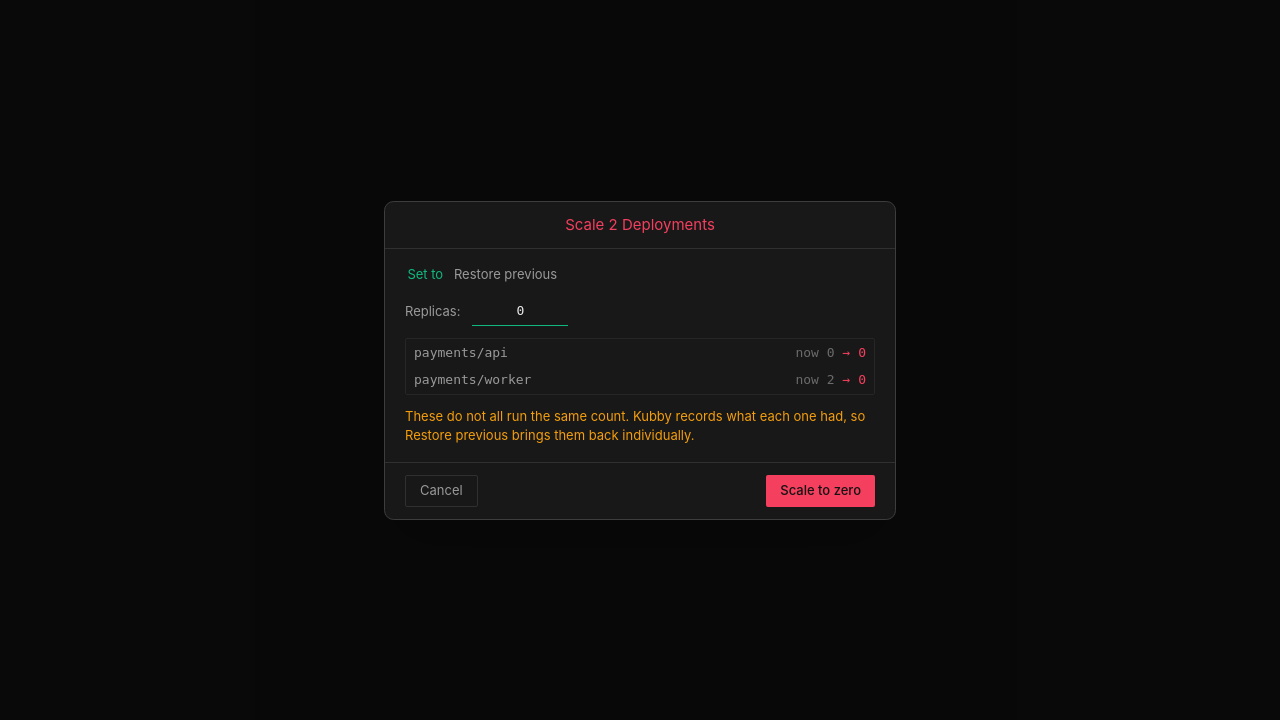
Test: BulkScaleDialog, restoring › marks a workload Kubby never scaled instead of inventing a count for it
This screenshot has width=1280, height=720.
Click the button "Restore previous": (506, 275) [452,265,560,285]
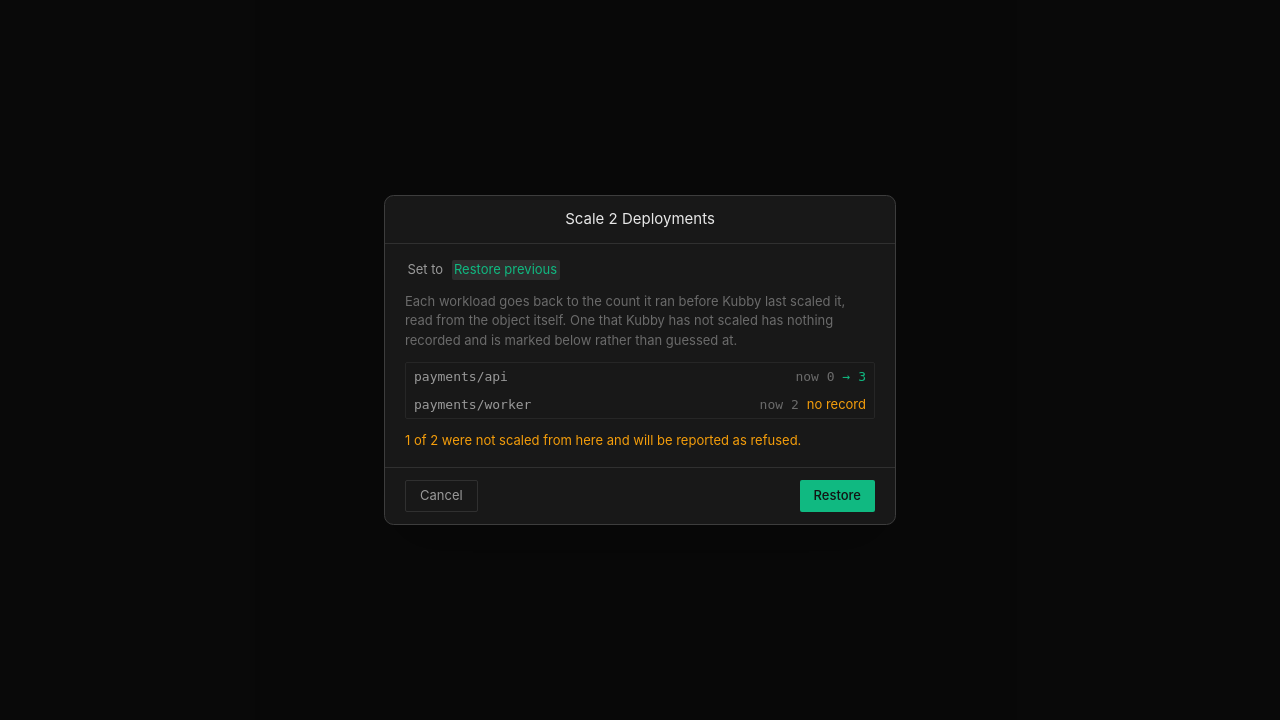
Expected: the button "Restore" is enabled, [800,480,875,512]
Result: the text "no record" is shown at [807,395,866,414]
Result: the text "1 of 2 were not scaled from here" is shown at [405,432,801,448]
